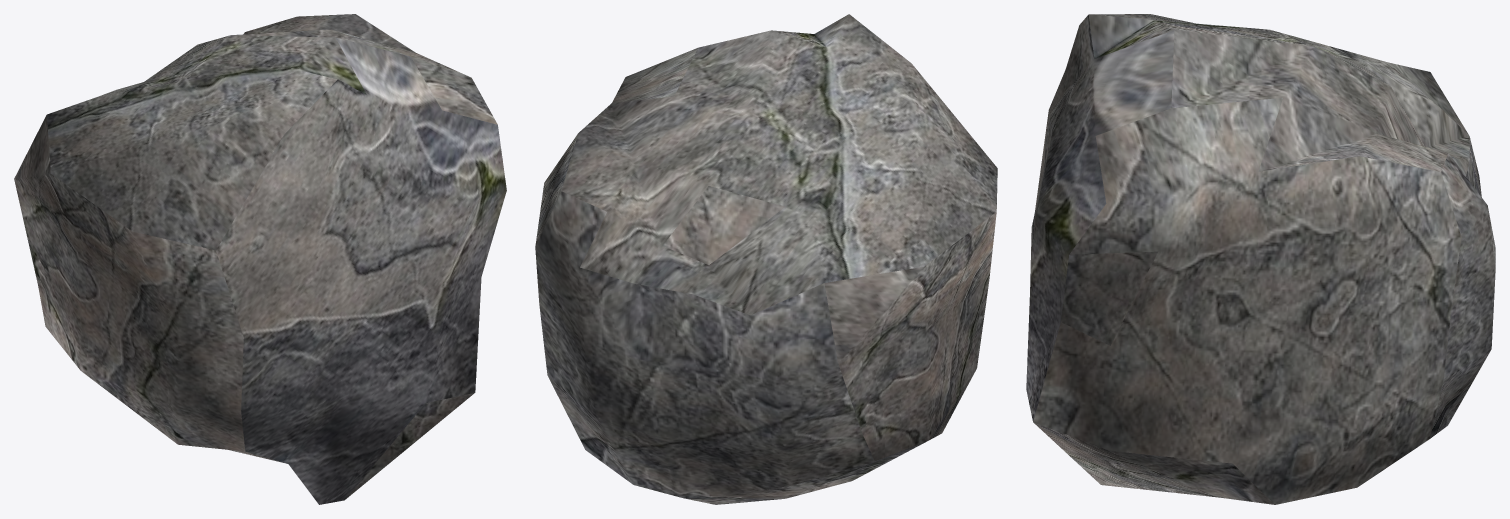
The model's file is Rock.gltf.
The picture shows the model from 3 angles, left to right: view 1: azimuth 30°, elevation 25°; view 2: azimuth 150°, elevation 25°; view 3: azimuth 270°, elevation 25°; orthographic projection. The views are drawn at different scales.
Parts seen in each view (by area): view 1: Cube; view 2: Cube; view 3: Cube.
Part boxes in pixels (bbox=[...]): Cube: bbox=[14, 14, 506, 504]; Cube: bbox=[535, 14, 997, 504]; Cube: bbox=[1026, 14, 1495, 504].
Size of the model in its own units: 1.27 by 1.45 by 1.32.
Materials: 1 (1 with a texture image).
